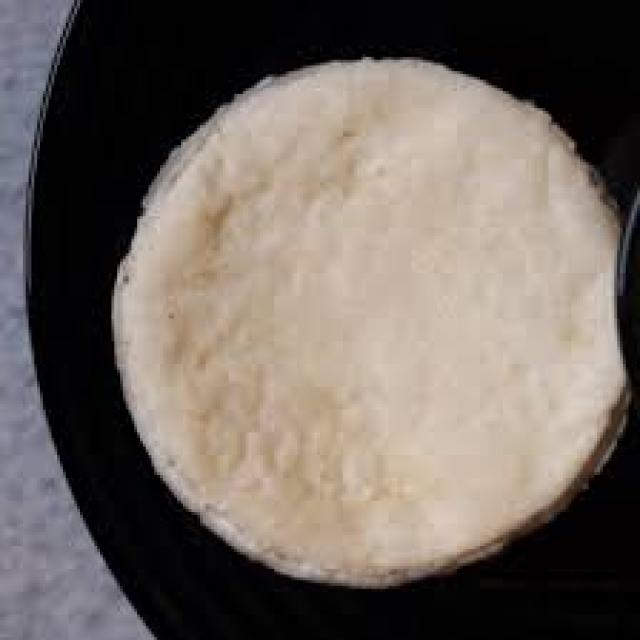RICE BHAKRI: (114, 60, 623, 583)
